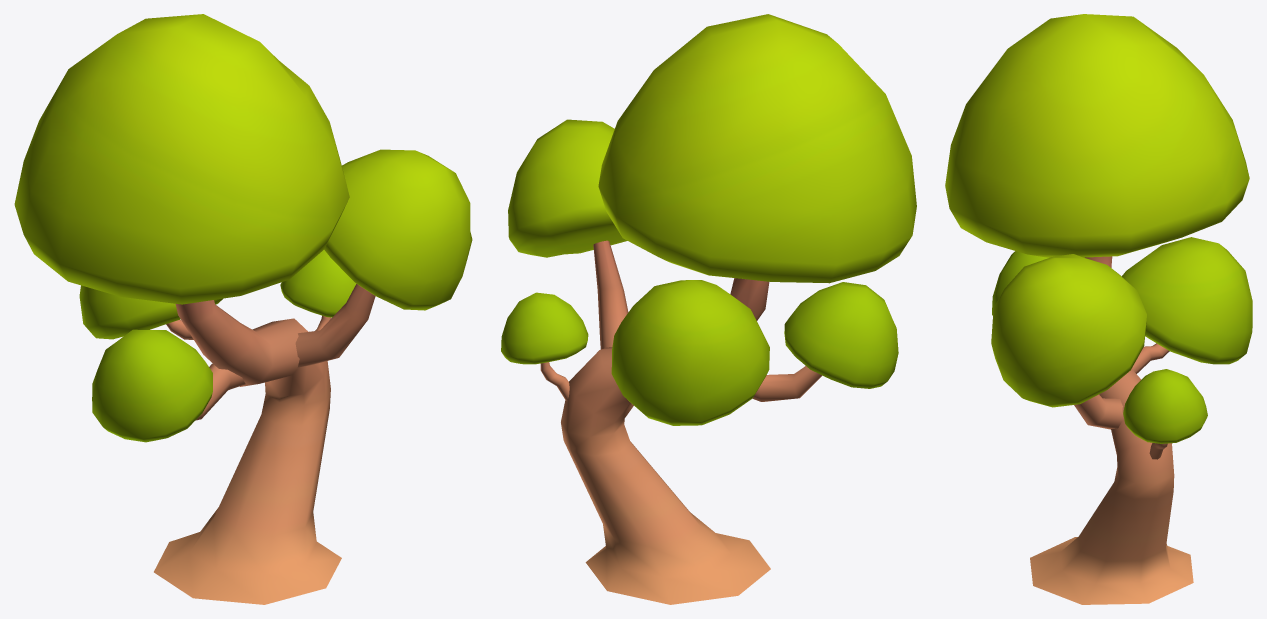
The model's file is Tree4.FBX.
3 renders of one model, left to right at view 1: azimuth 30°, elevation 25°; view 2: azimuth 150°, elevation 25°; view 3: azimuth 270°, elevation 25°, orthographic. The views are drawn at different scales.
Parts seen in each view (by area): view 1: Tree4; view 2: Tree4; view 3: Tree4.
Part boxes in pixels (left/top/right/bottom): Tree4: left=14, top=14, right=472, bottom=604; Tree4: left=501, top=14, right=916, bottom=604; Tree4: left=945, top=14, right=1252, bottom=604.
Bounding box in the file's own units: 454 × 609 × 328.
